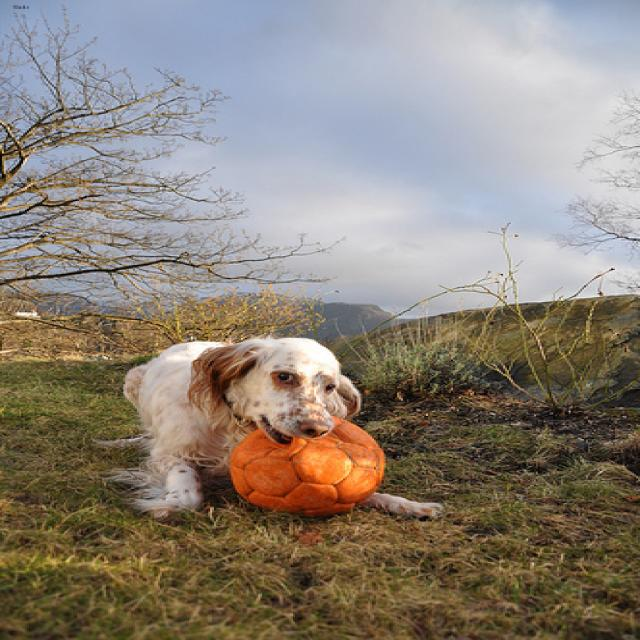dog-english_setter: (79, 329, 376, 518)
